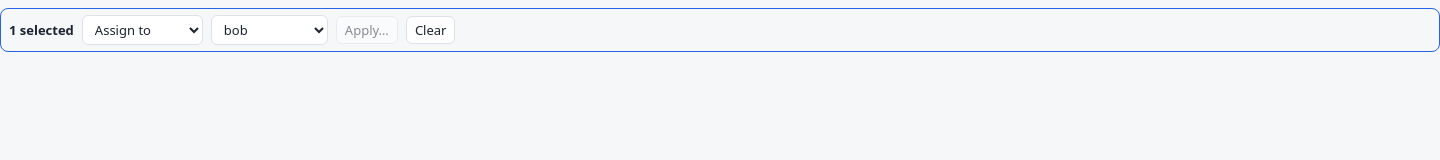
Test: BulkBar › cancelling the confirmation sends nothing
The width and height of the screenshot is (1440, 160).
Select "bob" in the dropdown named "Value" at (269, 30), box [211,15,328,45]
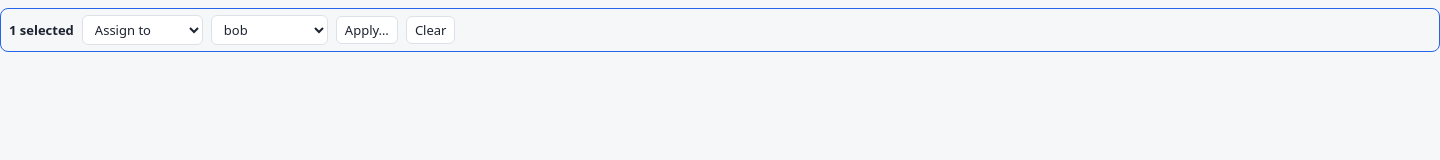
Click the button "Apply…".
click(367, 30)  # box [336,16,398,44]
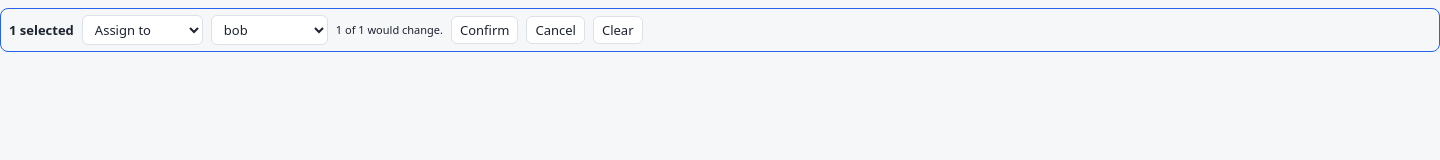
Click the button "Cancel".
click(556, 30)  # box [526,16,585,44]
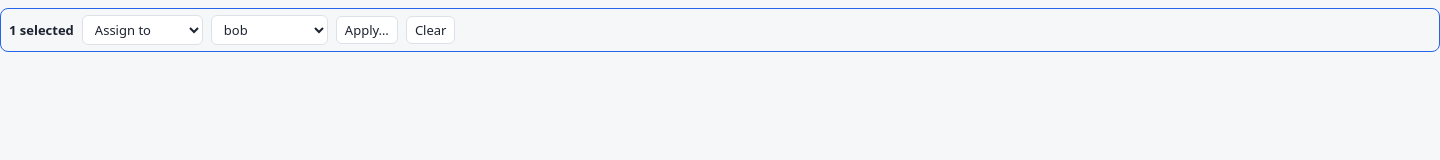
Result: the button "Apply…" is shown at [336,16,398,44]
